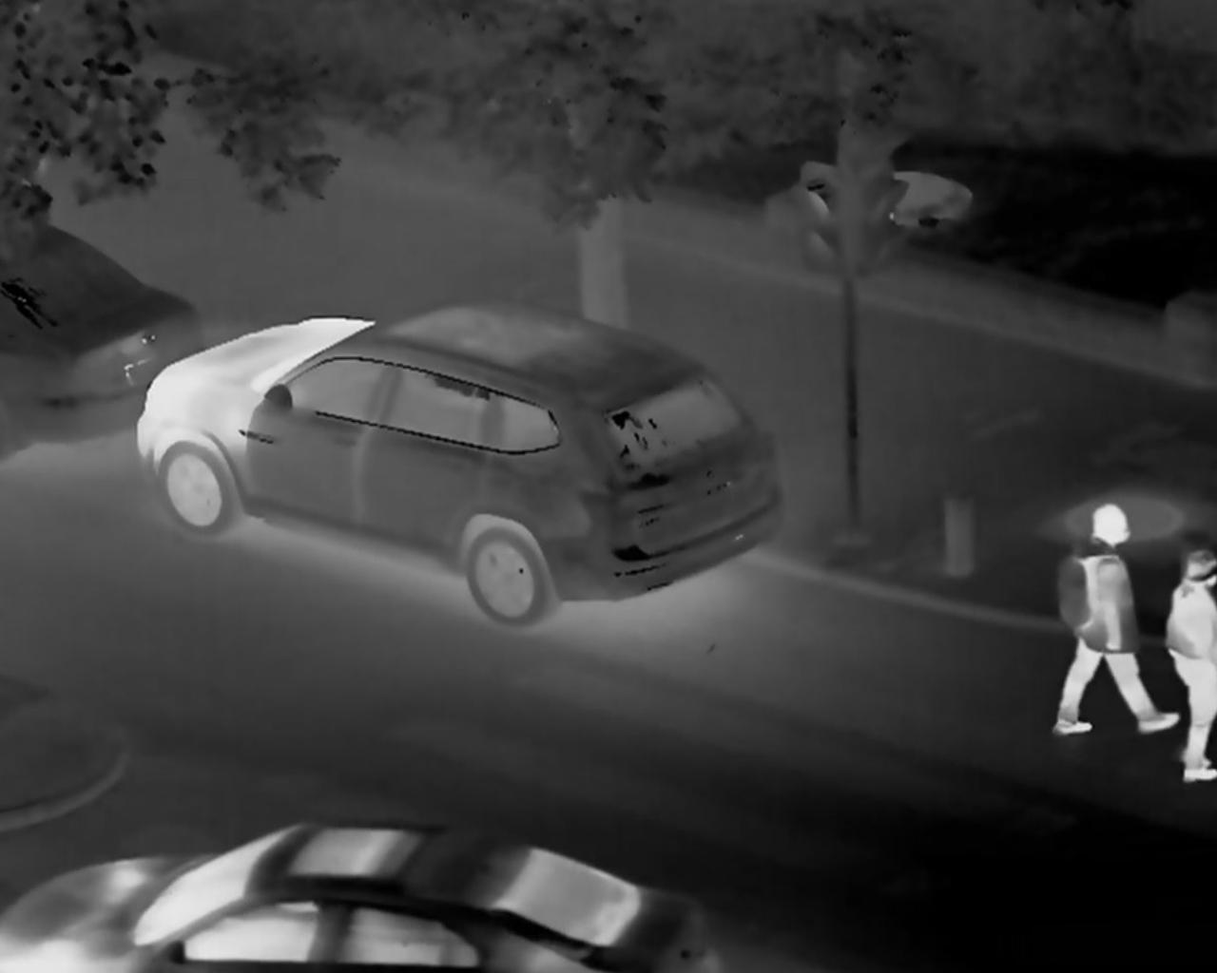person: (1046, 486, 1145, 792), (1175, 527, 1217, 796)
